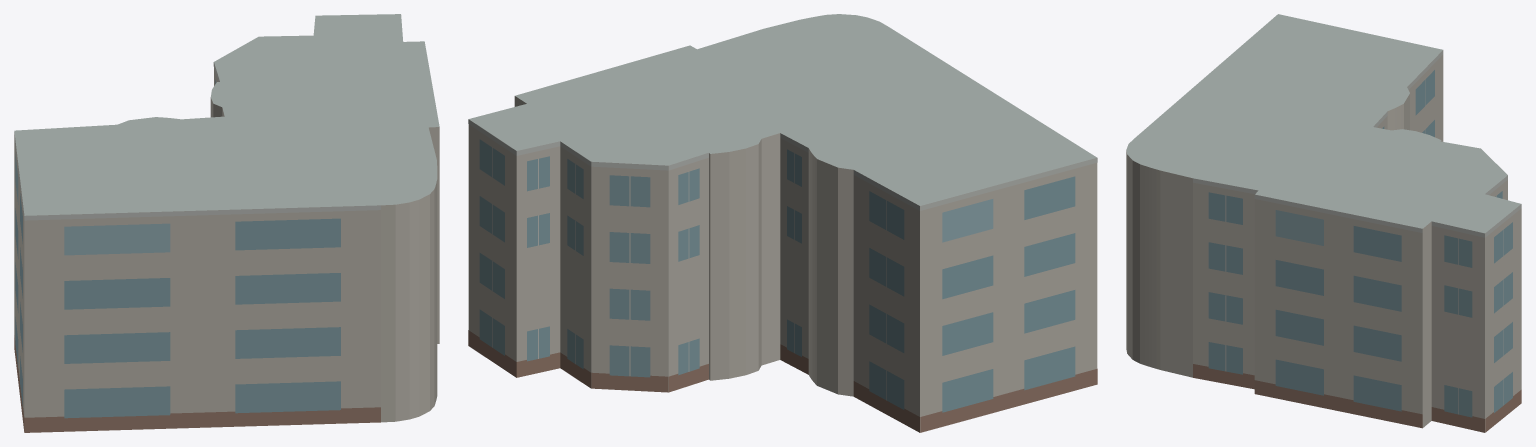
File: survey-upis-32672278.glb
The picture shows the model from 3 angles, left to right: view 1: azimuth 30°, elevation 25°; view 2: azimuth 150°, elevation 25°; view 3: azimuth 270°, elevation 25°; orthographic projection. The views are drawn at different scales.
Parts seen in each view (by area): view 1: survey-upis-32672278.tmp; view 2: survey-upis-32672278.tmp; view 3: survey-upis-32672278.tmp.
Part boxes in pixels (x1,y1,x2,y2): survey-upis-32672278.tmp: (14, 14, 439, 432); survey-upis-32672278.tmp: (468, 14, 1097, 432); survey-upis-32672278.tmp: (1126, 14, 1521, 432).
Bounding box in the file's own units: 26.43 × 11.2 × 20.11.
